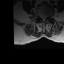CCS_severe_stenosis: (43, 15, 44, 23)
LFS_severe_stenosis: (46, 15, 48, 20)
LLS_severe_stenosis: (44, 16, 46, 22)
RFS_stenosis: (39, 15, 41, 20)
RLS_severe_stenosis: (41, 16, 43, 22)
